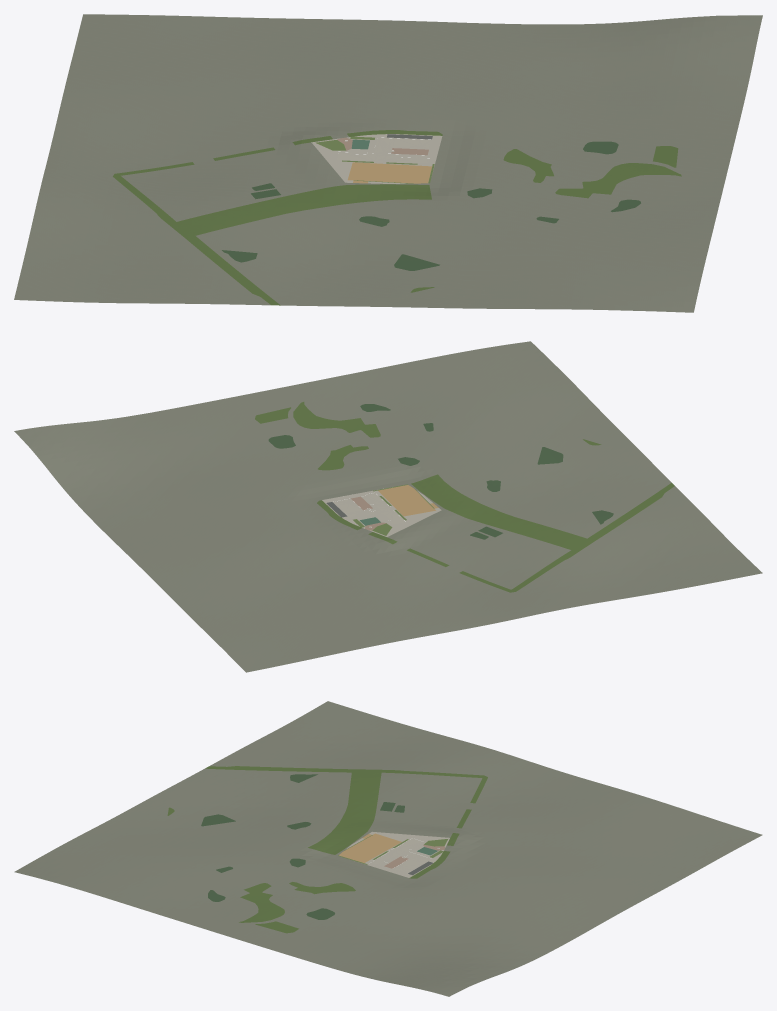
3 renders of one model, top to bottom at view 1: azimuth 30°, elevation 25°; view 2: azimuth 150°, elevation 25°; view 3: azimuth 270°, elevation 25°, orthographic. The views are drawn at different scales.
Visible parts, largest first — view 1: ground_context-estimated, surface_school-paved-walk, surface_sports-field; view 2: ground_context-estimated, surface_school-paved-walk, surface_sports-field; view 3: ground_context-estimated, surface_school-paved-walk, surface_sports-field.
Boxes of the visible parts, bbox=[...] form: ground_context-estimated: bbox=[14, 14, 762, 312]; surface_school-paved-walk: bbox=[311, 134, 442, 183]; surface_sports-field: bbox=[347, 162, 432, 183]; ground_context-estimated: bbox=[14, 341, 762, 672]; surface_school-paved-walk: bbox=[322, 490, 441, 536]; surface_sports-field: bbox=[378, 485, 438, 516]; ground_context-estimated: bbox=[14, 701, 762, 996]; surface_school-paved-walk: bbox=[346, 831, 449, 877]; surface_sports-field: bbox=[339, 833, 401, 862].
Bounding box in the file's own units: 1005 × 32.47 × 1005.
Materials: 9 (9 with a texture image).
